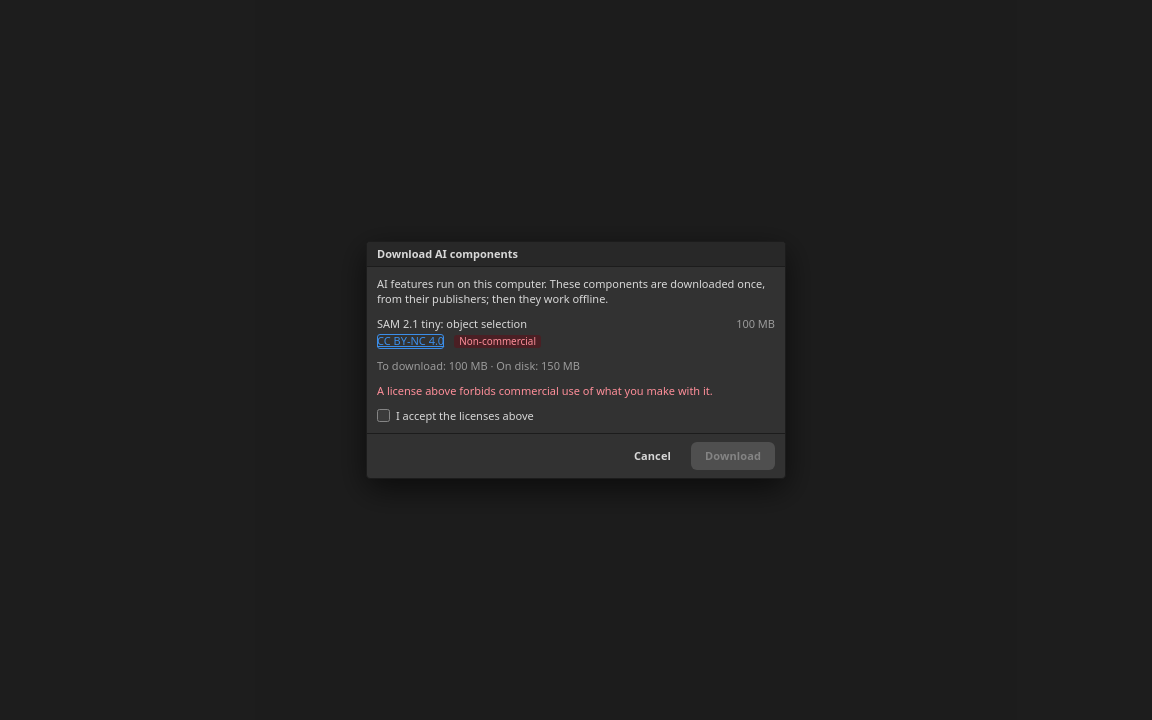
Test: a license that must be accepted keeps Download disabled until it is
This screenshot has width=1152, height=720.
Expected: the text "Non-commercial" is shown, [454,335,541,348]
Expected: the button "Download" is disabled, [691,442,775,470]
Click the checkbox labelled "I accept the licenses above" at (384, 416), box [377,410,390,422]
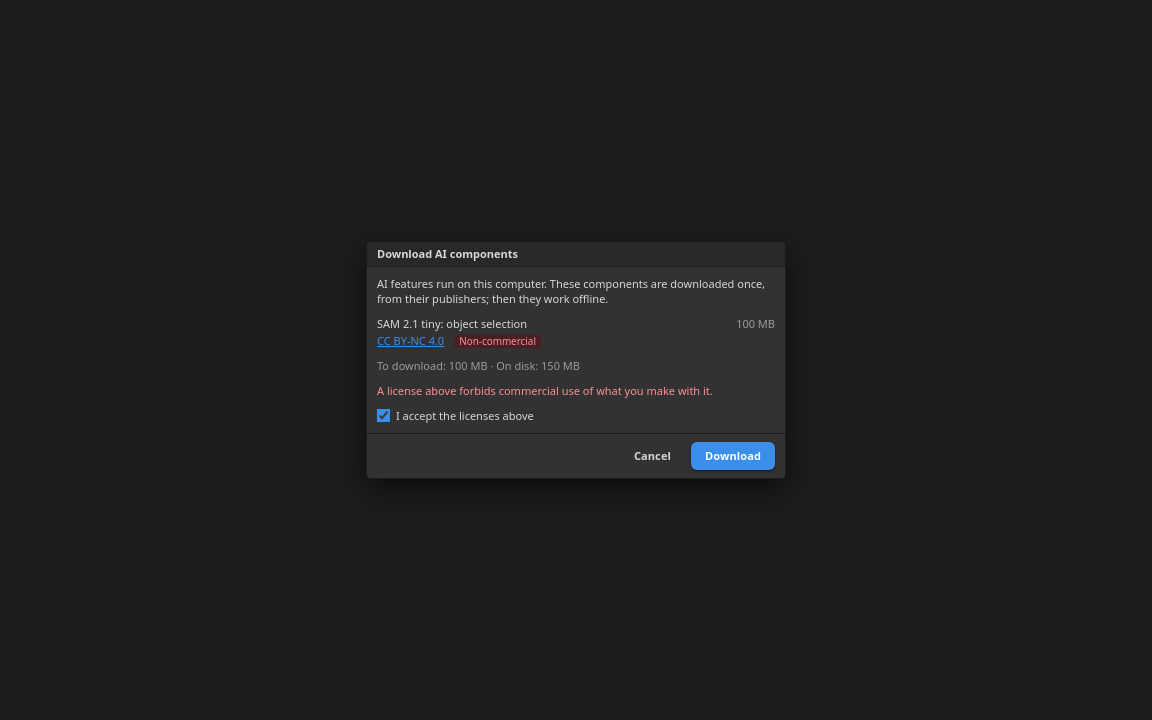
Expected: the button "Download" is enabled, [691,442,775,470]
